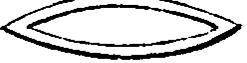Mouth: (1, 0, 243, 61)
